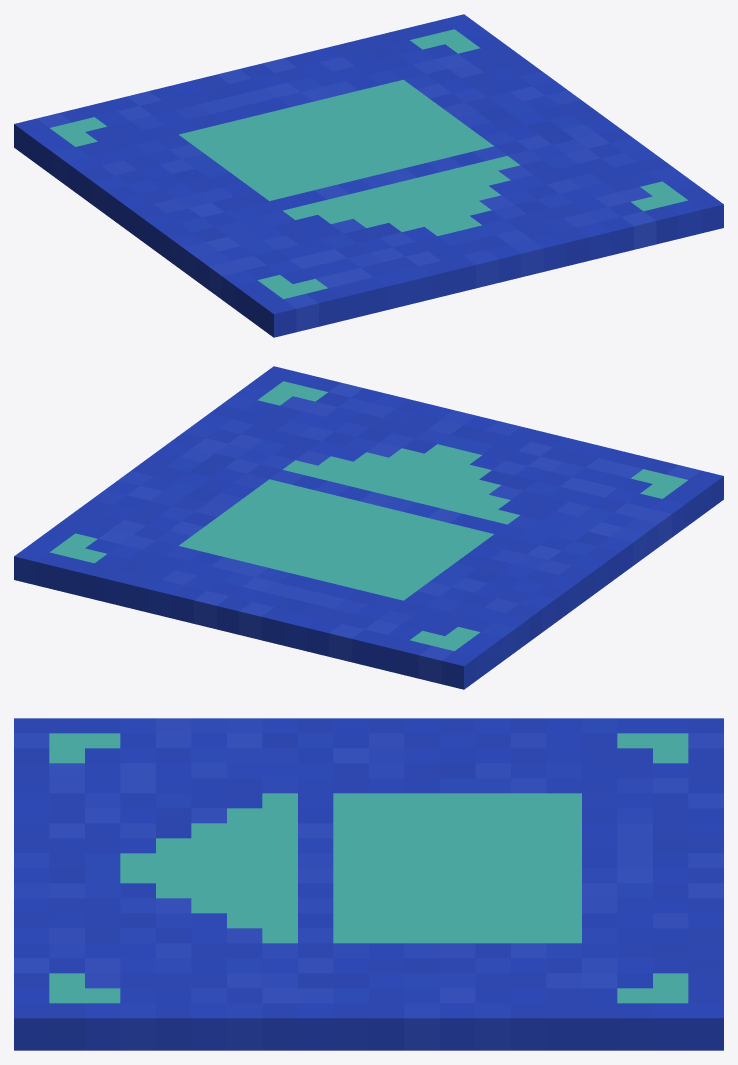
The model's file is home.fbx.
The picture shows the model from 3 angles, top to bottom: view 1: azimuth 30°, elevation 25°; view 2: azimuth 150°, elevation 25°; view 3: azimuth 270°, elevation 25°; orthographic projection. The views are drawn at different scales.
Visible parts, largest first — view 1: Matrix; view 2: Matrix; view 3: Matrix.
Part boxes in pixels (x1,y1,x2,y2): Matrix: (14,14,723,337); Matrix: (14,366,723,689); Matrix: (14,718,723,1050).
Bounding box in the file's own units: 20 × 1 × 20.
1 material, 1 textured.
